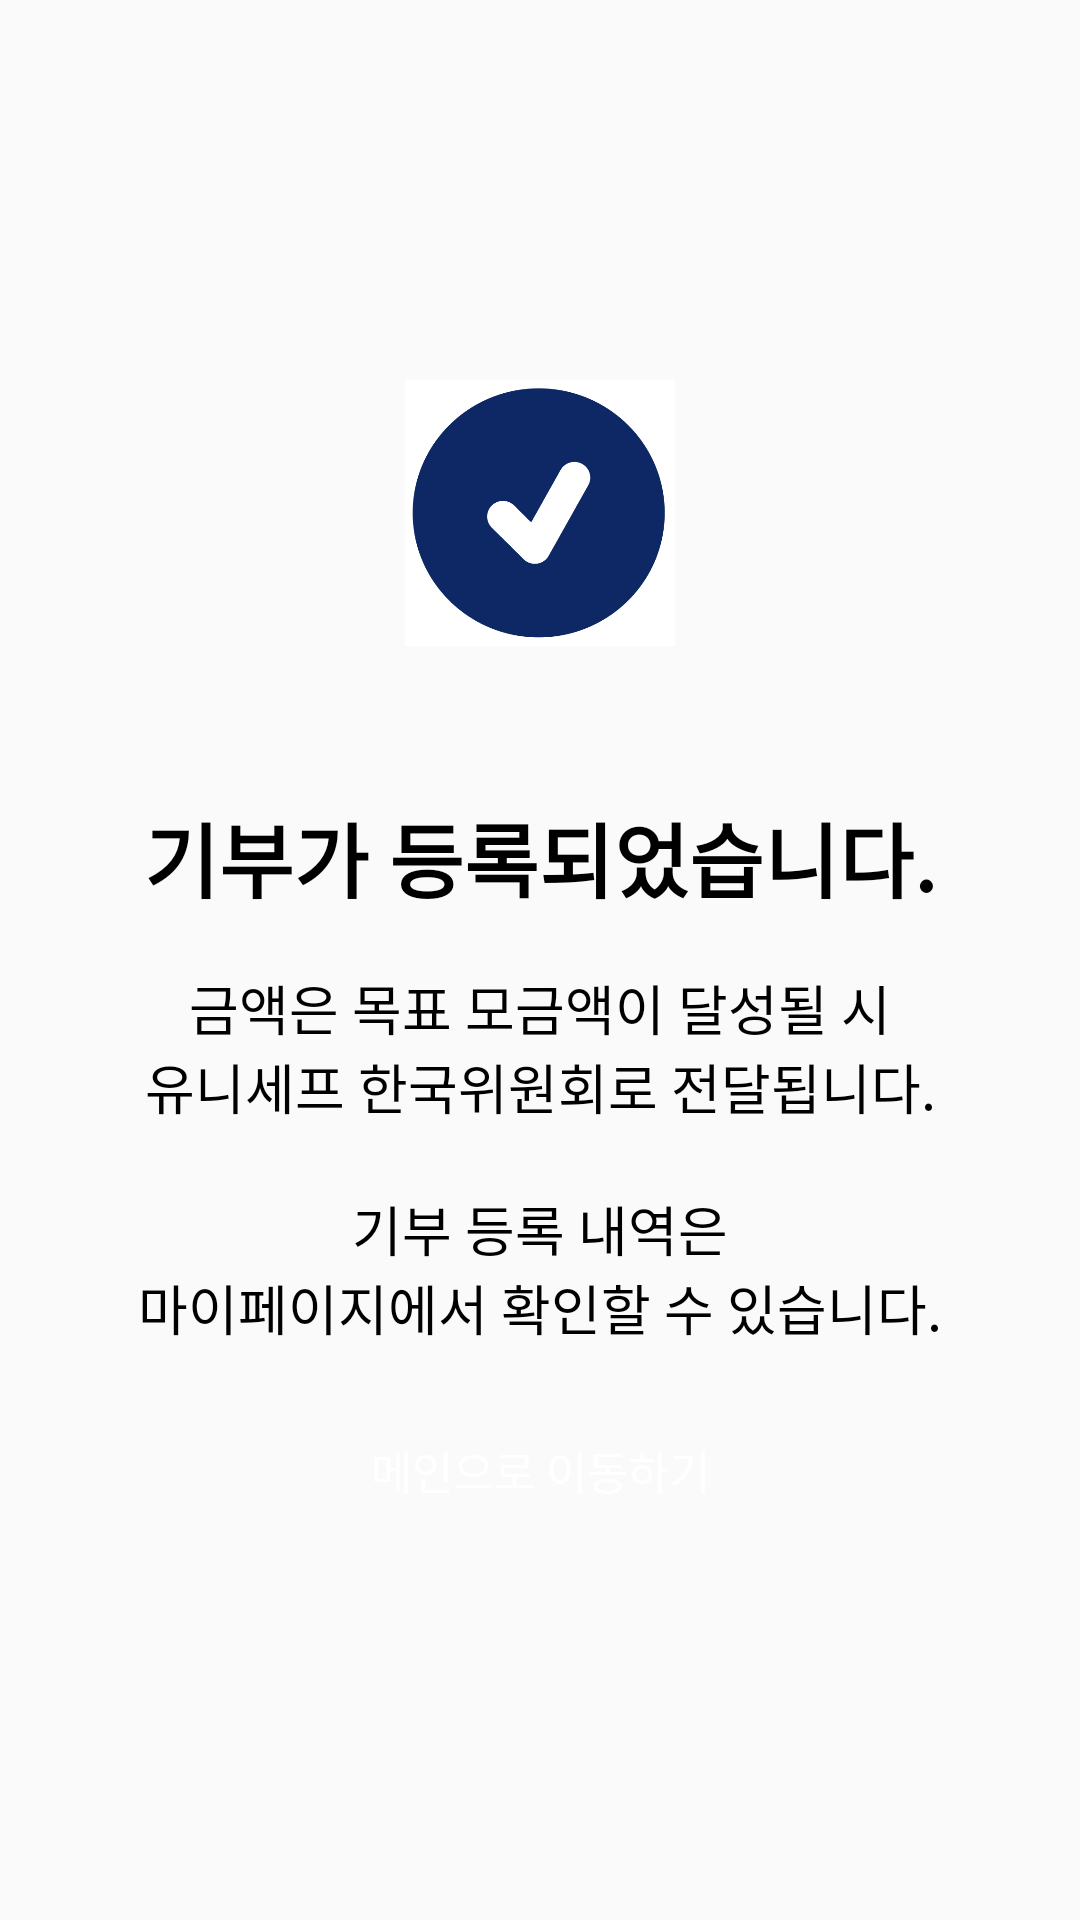

Point at icon controls on the screen. Image size 1080x1920, points as point (x, y).
check: point (538, 513)
